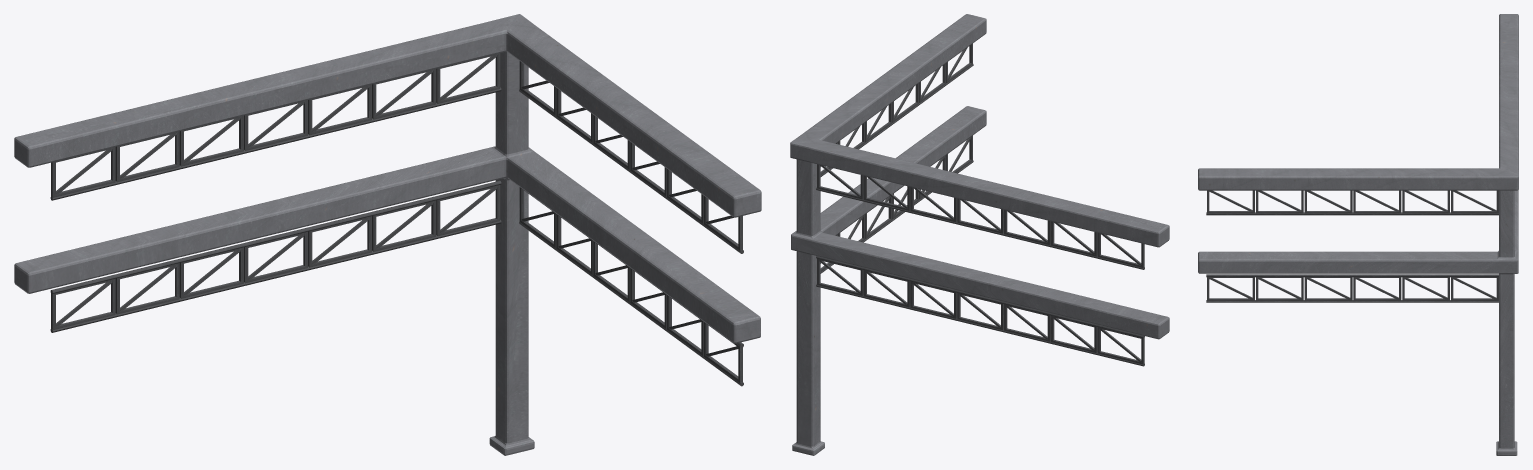
The model's file is grill.fbx.
3 views of the same model, side by side, from view 1: azimuth 30°, elevation 25°; view 2: azimuth 150°, elevation 25°; view 3: azimuth 270°, elevation 25° (orthographic). The views are drawn at different scales.
Visible parts, largest first — view 1: Plane.006, FOND_01.002, FOND_01.004, FOND_01.001, FOND_01.003; view 2: Plane.006, FOND_01.002, FOND_01.004, FOND_01.003, FOND_01.001; view 3: Plane.006, FOND_01.001, FOND_01.003.
Boxes of the visible parts, box(x1,y1,x2,y2) form: Plane.006: box(14, 14, 761, 455); FOND_01.002: box(50, 180, 501, 332); FOND_01.004: box(50, 53, 501, 200); FOND_01.001: box(519, 187, 743, 386); FOND_01.003: box(519, 61, 743, 253); Plane.006: box(790, 14, 1169, 455); FOND_01.002: box(816, 256, 1144, 366); FOND_01.004: box(816, 164, 1144, 269); FOND_01.003: box(820, 43, 973, 176); FOND_01.001: box(820, 135, 973, 273); Plane.006: box(1198, 14, 1518, 455); FOND_01.001: box(1206, 274, 1498, 302); FOND_01.003: box(1206, 190, 1498, 215).
Bounding box in the file's own units: 996 × 795 × 826.
